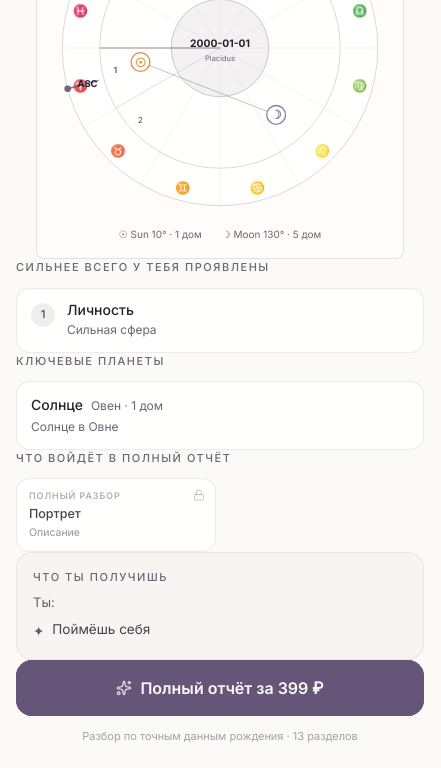
Test: NatalReadingPage — CTA purchase flow › 409 PAYMENT_NEEDS_RECONCILIATION stays a visible error, never a navigation
(page scrolled)
Click the button with test id "natal-full-report-cta-button": coordinates (220, 688) [16, 660, 424, 716]
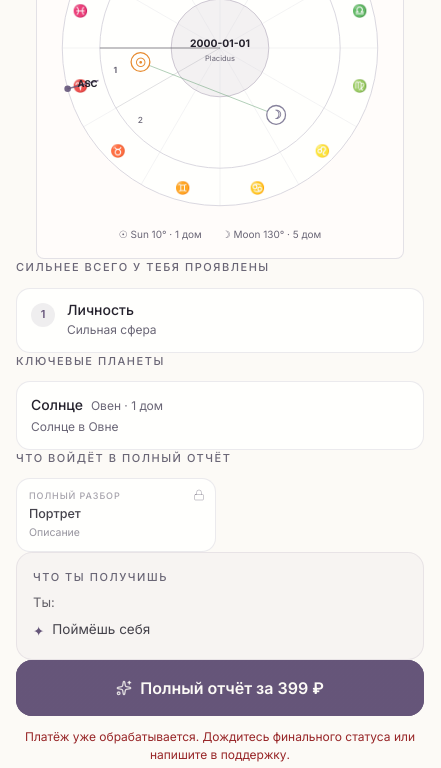
Result: the message with test id "natal-cta-error" is shown at [16, 728, 424, 764]
Result: the message with test id "natal-cta-error" shows "обрабатывается" at [25, 729, 415, 762]
